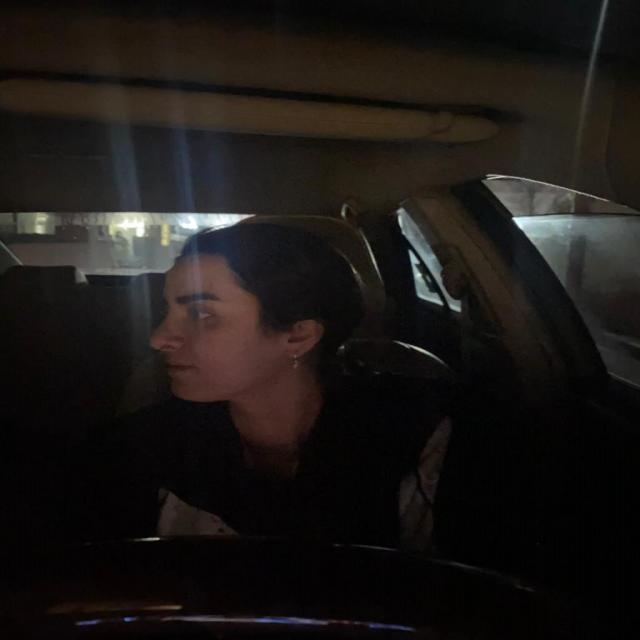LeftRight: (140, 212, 368, 426)
